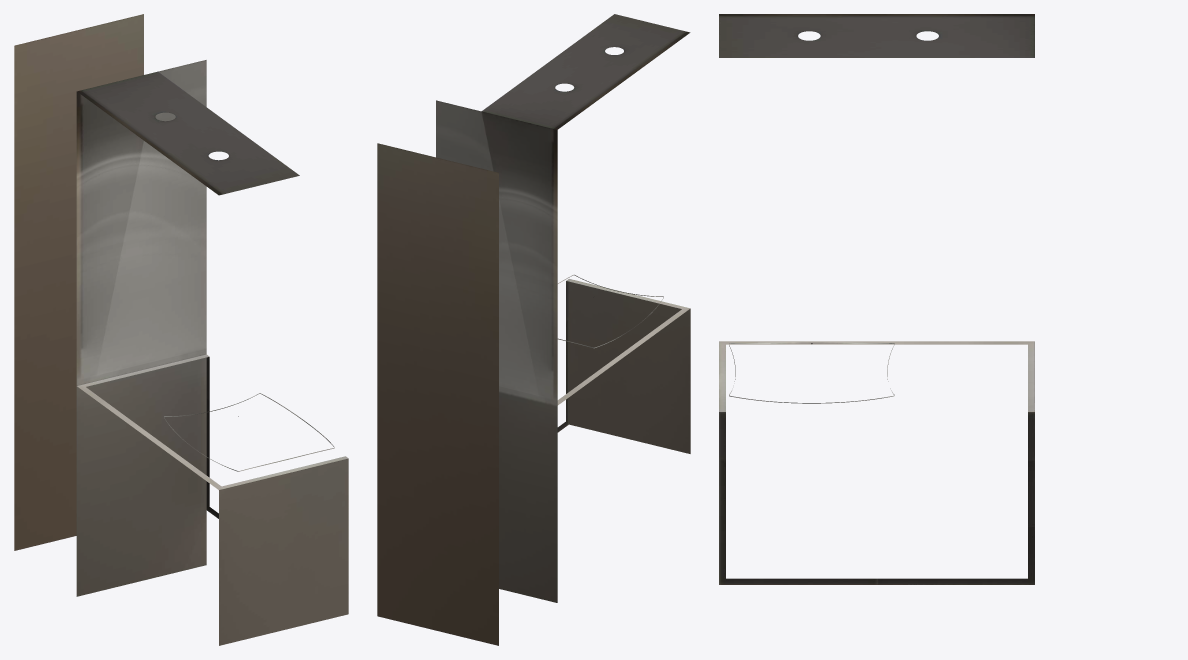
The model's file is 2014_WSJ_JJ_16.FBX.
3 renders of one model, left to right at view 1: azimuth 30°, elevation 25°; view 2: azimuth 150°, elevation 25°; view 3: azimuth 270°, elevation 25°, orthographic. The views are drawn at different scales.
Visible parts, largest first — view 1: 2014_WSJ_JJ_16; view 2: 2014_WSJ_JJ_16; view 3: 2014_WSJ_JJ_16.
Boxes of the visible parts, bbox=[...] form: 2014_WSJ_JJ_16: bbox=[14, 14, 348, 645]; 2014_WSJ_JJ_16: bbox=[377, 14, 690, 645]; 2014_WSJ_JJ_16: bbox=[719, 14, 1034, 584].
Size of the model in its own units: 0.48 by 1.78 by 1.31.
